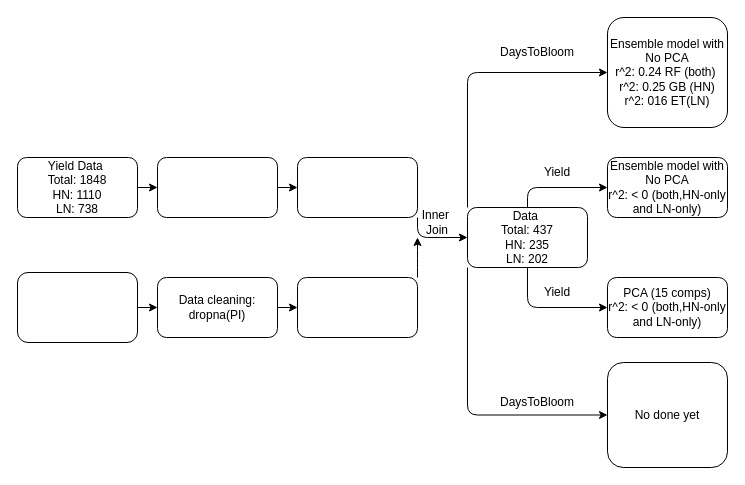
Image size: 745x485. Some labels were removed from this diagram. The shapes that lost their labels are listed below. From the top down, each one's centre as x and y in pixels, then its label:
At (x=217, y=187): "Data cleaning: dropna(yield) dropna(PlotID)".
At (x=357, y=187): "Yield Data Total: 1517 HN: 950 LN: 567".
At (x=77, y=307): "Spectra Data Total: 1791 HN: 738 LN: 732 GH: 321".
At (x=357, y=307): "Spectra Data Total: 920 HN: 573 LN: 347".
